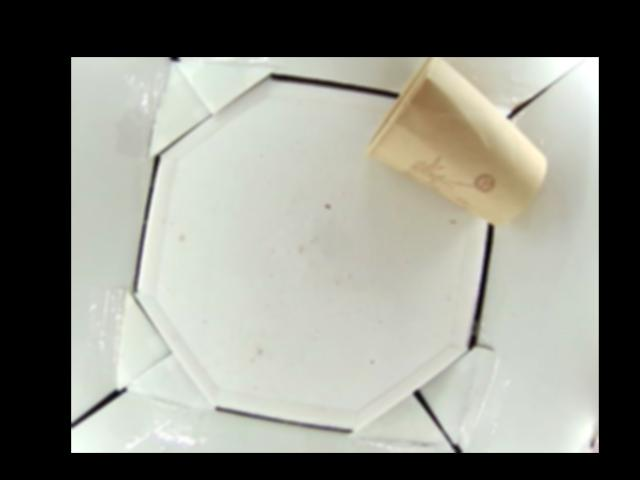Cup: (368, 57, 546, 228)
